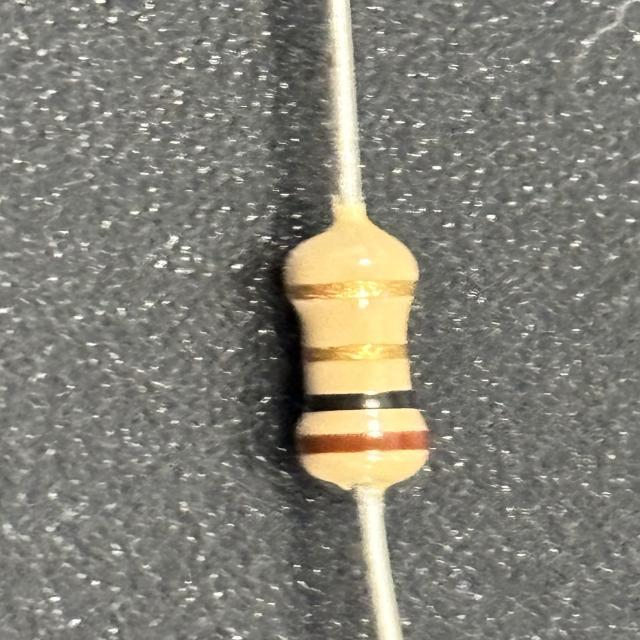resistor: (275, 203, 440, 501)
